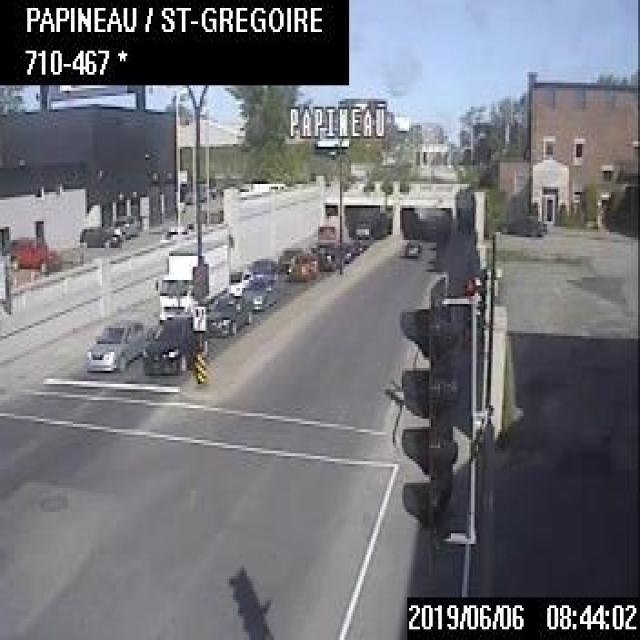vehicle: (153, 235, 231, 322), (85, 316, 145, 373), (142, 313, 198, 374), (6, 234, 62, 272), (202, 296, 251, 333), (240, 273, 284, 312), (498, 212, 546, 236), (78, 224, 124, 249), (310, 238, 343, 269), (284, 252, 319, 281), (276, 244, 303, 274), (226, 265, 251, 295), (111, 212, 138, 235), (158, 225, 188, 242), (404, 240, 418, 253)
